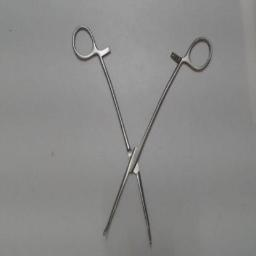Lahey Forceps: (68, 19, 214, 247)
